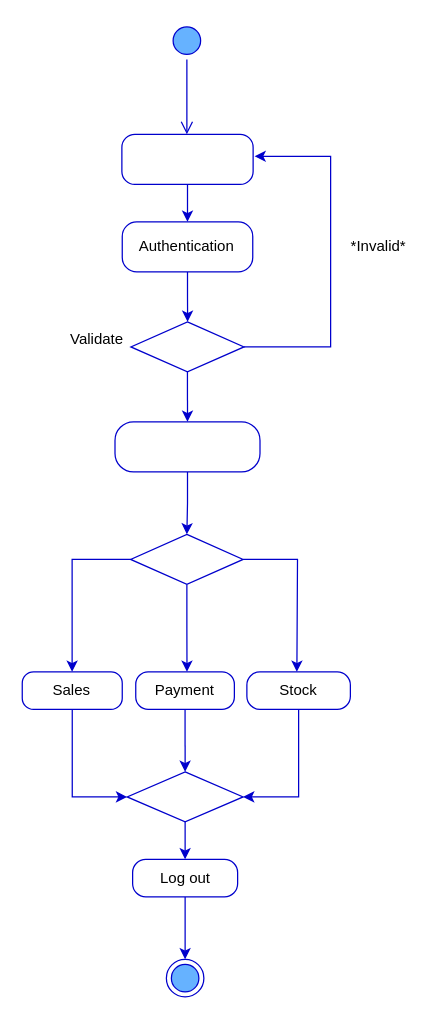
The diagram is 444 pixels wide and 1019 high, and some of its shapes have lost their labels. The centre of each missing label's shape, as x and y in pixels:
"Generate reports" goes at point 187,446.
"Log in" goes at point 187,158.
